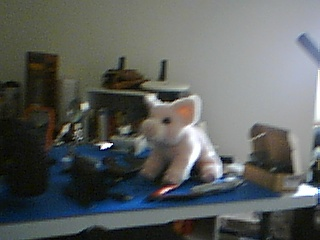piggy: (138, 91, 226, 186)
